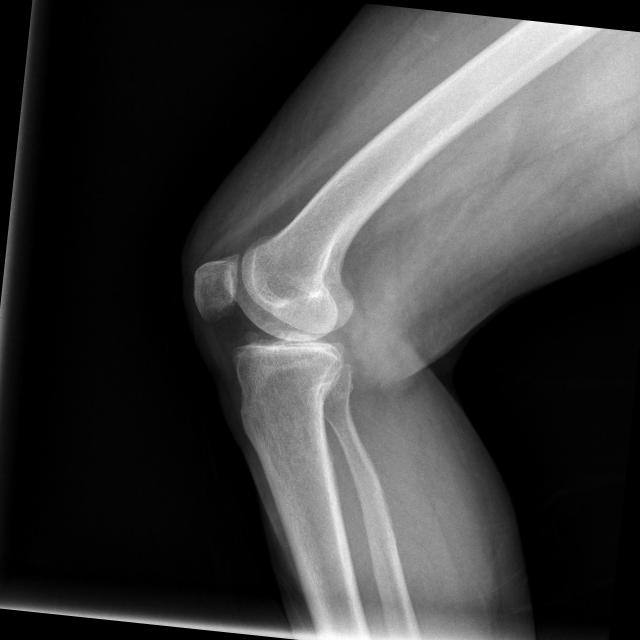Knee: (176, 236, 360, 424)
